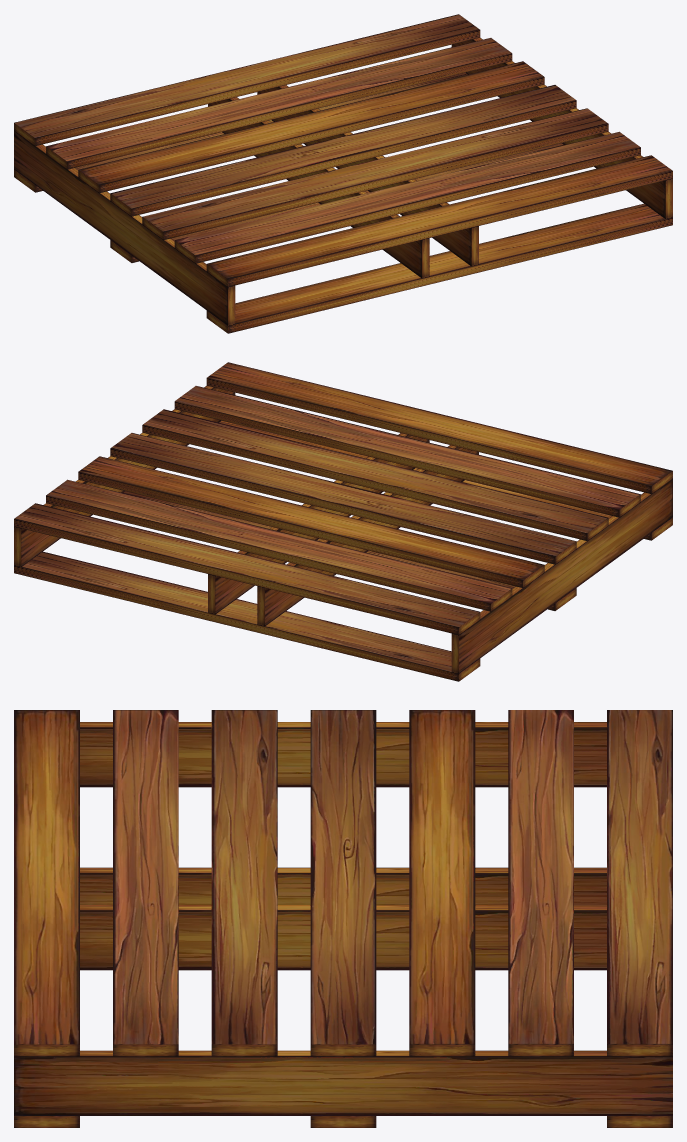
The model's file is pallet.fbx.
3 renders of one model, top to bottom at view 1: azimuth 30°, elevation 25°; view 2: azimuth 150°, elevation 25°; view 3: azimuth 270°, elevation 25°, orthographic. The views are drawn at different scales.
Parts seen in each view (by area): view 1: pCube45; view 2: pCube45; view 3: pCube45.
Part boxes in pixels (box(x1,y1,x2,y2)): pCube45: box(14, 14, 672, 333); pCube45: box(14, 362, 672, 681); pCube45: box(14, 710, 672, 1127).
Size of the model in its own units: 6 by 0.7 by 5.
1 material, 1 textured.
